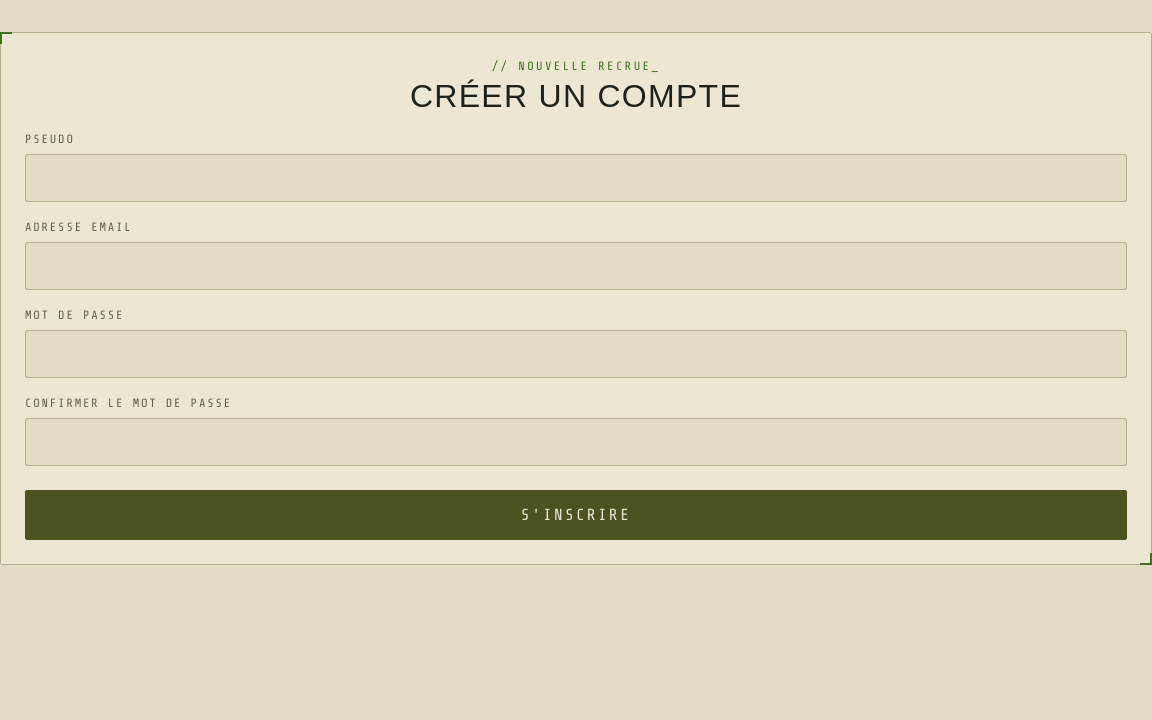
Composant Register (US 3.1) › envoie les données au serveur et affiche un message de confirmation
In the field labelled "Pseudo": (576, 178) x1=25 y1=154 x2=1127 y2=202, type "serpent"
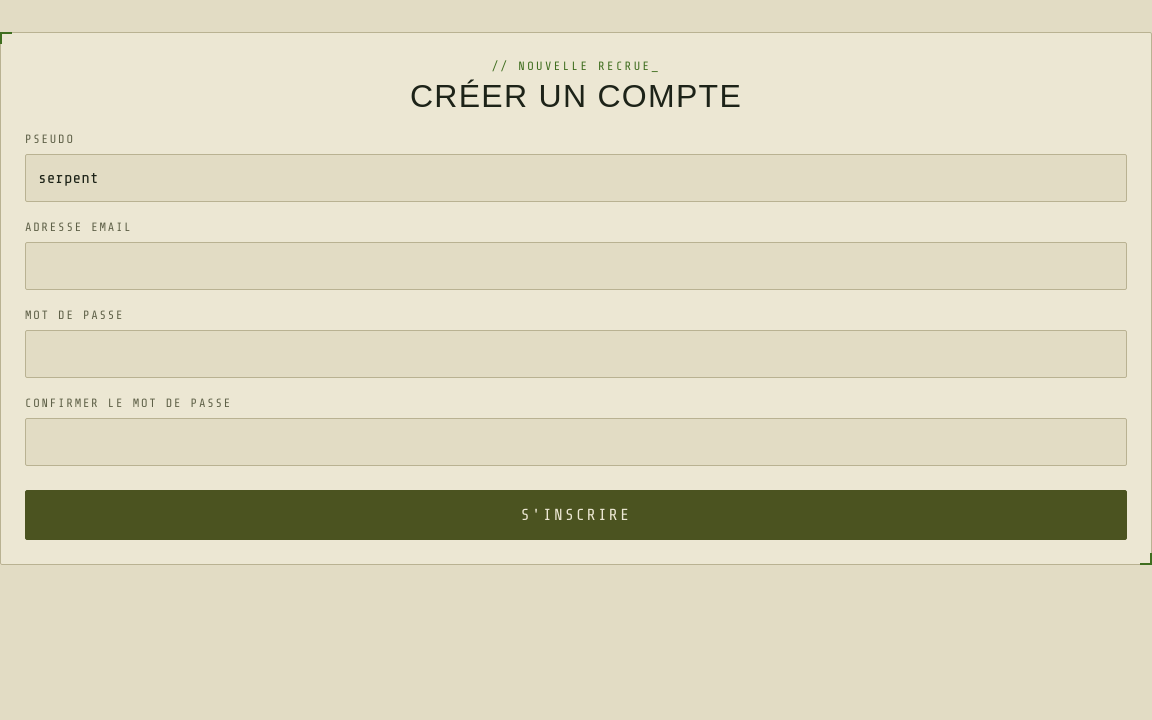
In the field labelled "Adresse email": (576, 266) x1=25 y1=242 x2=1127 y2=290, type "test@exemple.com"
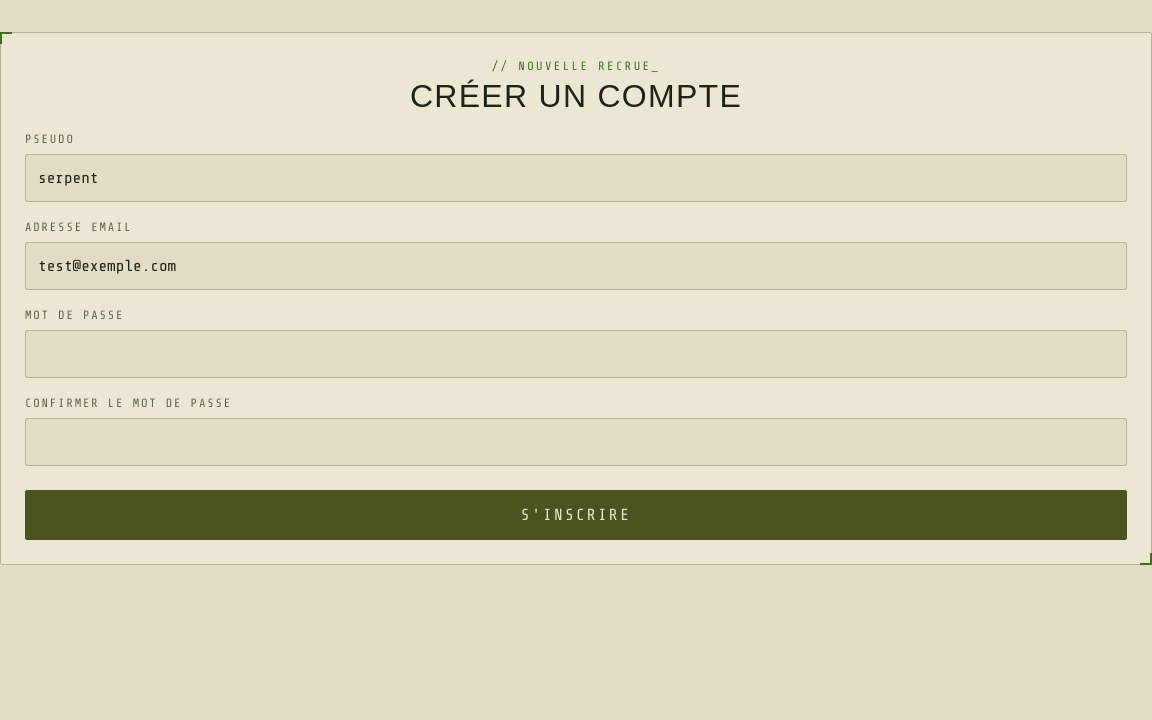
In the password field labelled "Mot de passe": (576, 354) x1=25 y1=330 x2=1127 y2=378, type "motdepasse"
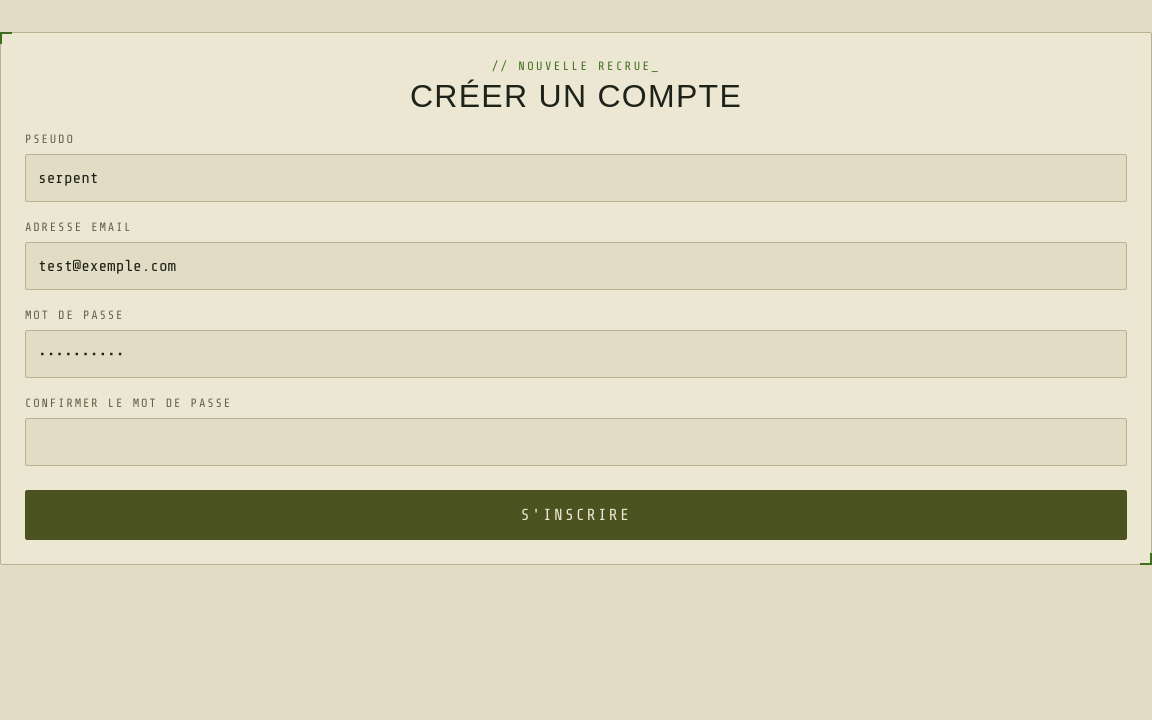
In the password field labelled "Confirmer le mot de passe": (576, 442) x1=25 y1=418 x2=1127 y2=466, type "motdepasse"
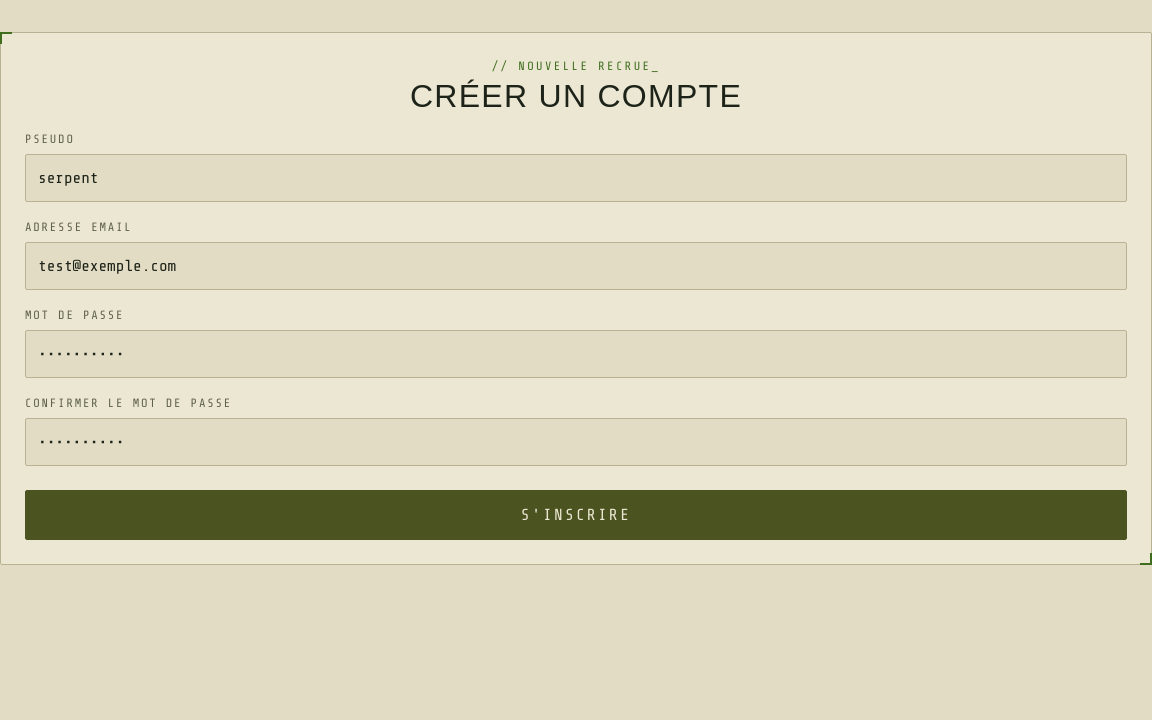
Click the button "S'inscrire": (576, 515) x1=25 y1=490 x2=1127 y2=540
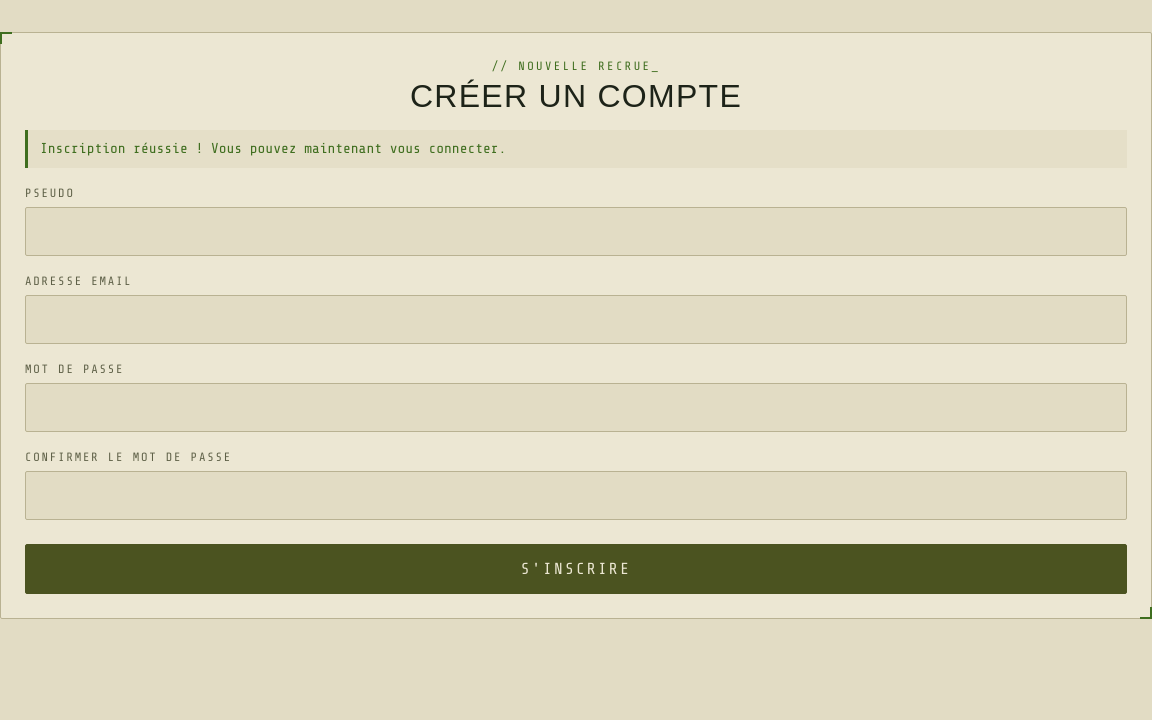
Result: the text "Inscription réussie ! Vous pouvez maintenant vous connecter." is shown at x1=25 y1=130 x2=1127 y2=168
Result: the field labelled "Pseudo" is empty at x1=25 y1=207 x2=1127 y2=256
Result: the password field labelled "Mot de passe" is empty at x1=25 y1=383 x2=1127 y2=432
